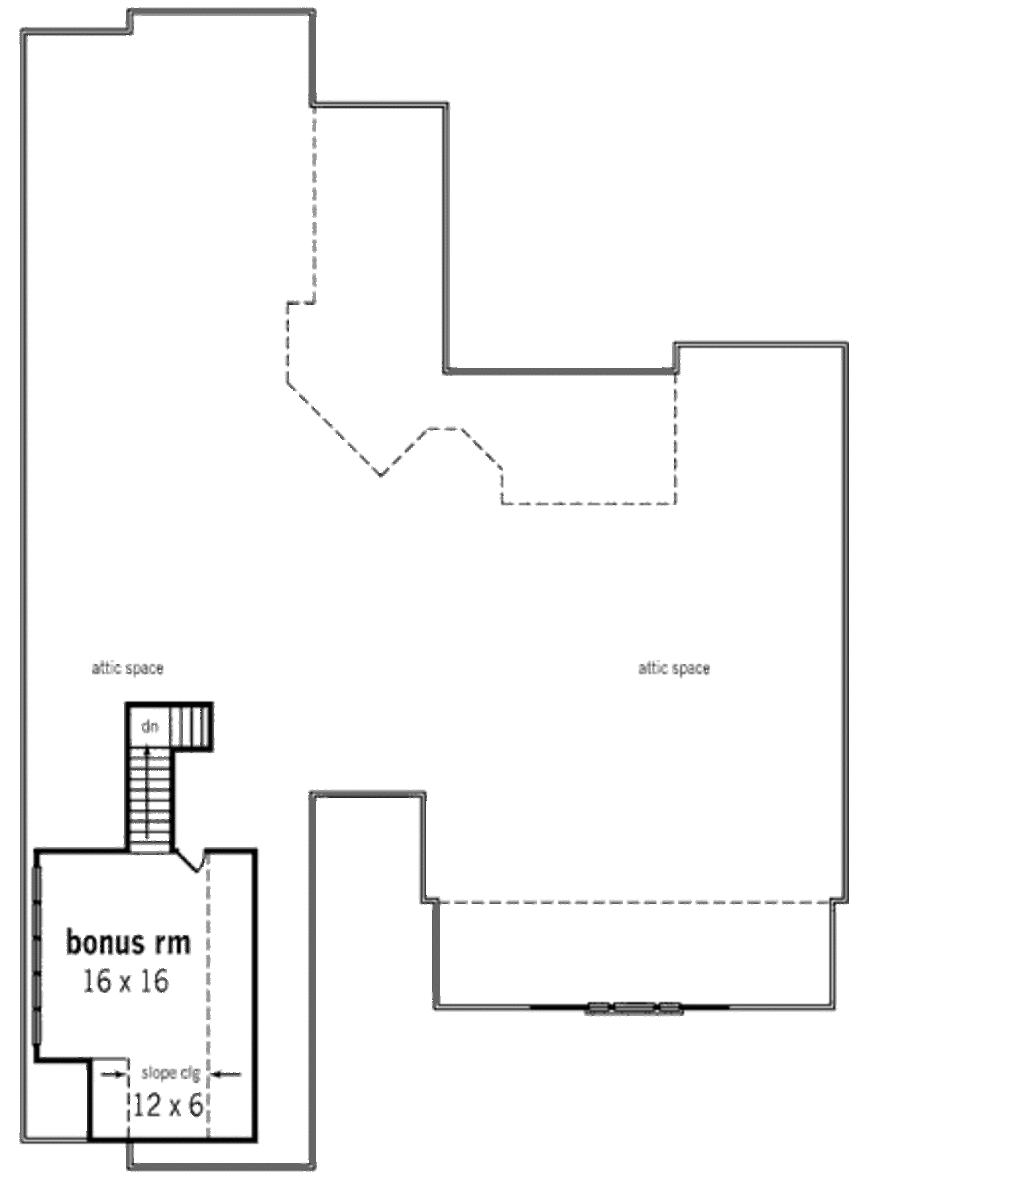door: (175, 844, 217, 889)
stairs: (99, 696, 216, 852)
windows: (23, 855, 44, 1057), (571, 1000, 694, 1023)
